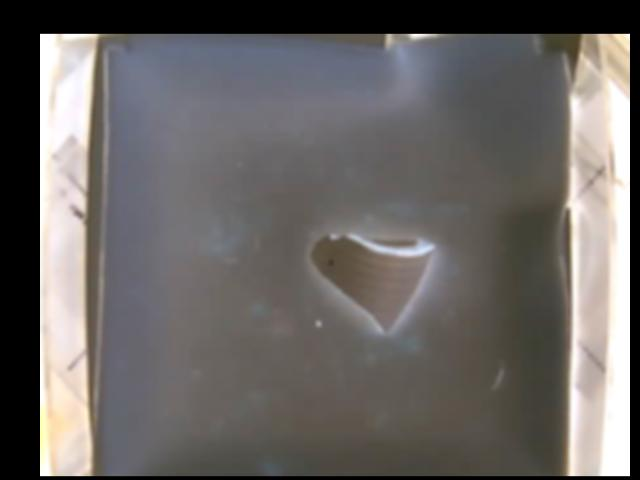China: (309, 231, 434, 335)
